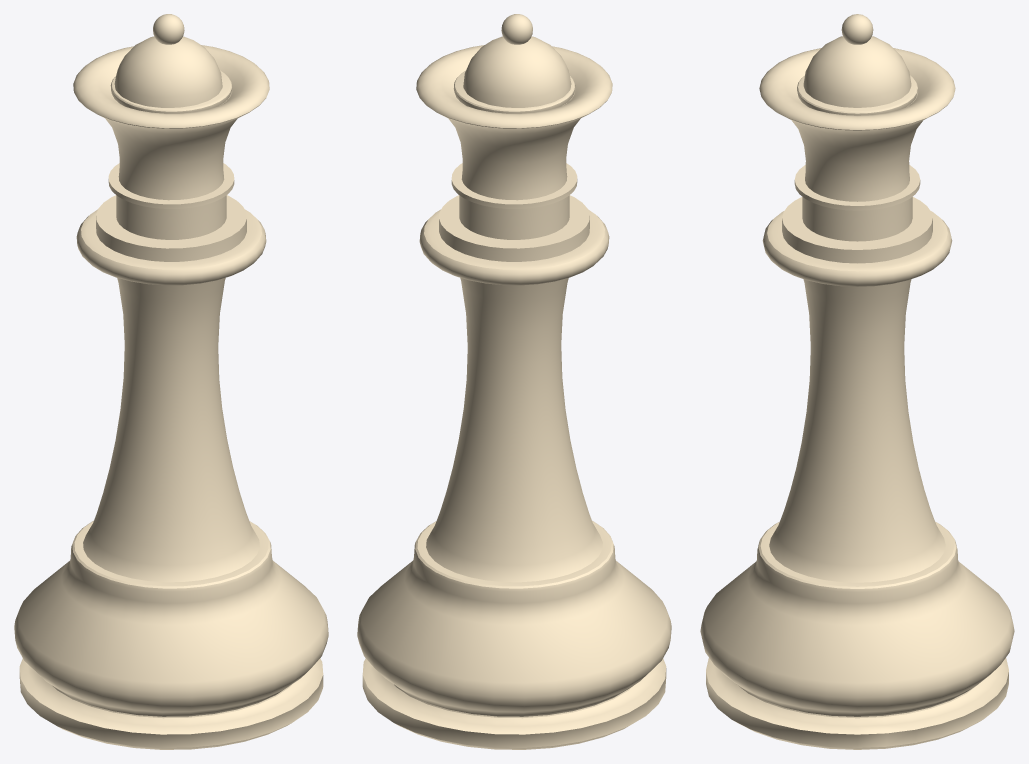
The model's file is Queen.fbx.
3 views of the same model, side by side, from view 1: azimuth 30°, elevation 25°; view 2: azimuth 150°, elevation 25°; view 3: azimuth 270°, elevation 25° (orthographic).
Parts seen in each view (by area): view 1: Queen; view 2: Queen; view 3: Queen.
Boxes of the visible parts, box(x1,y1,x2,y2) form: Queen: box(14, 14, 328, 749); Queen: box(357, 14, 671, 749); Queen: box(700, 14, 1014, 749).
Size of the model in its own units: 62.7 by 149 by 62.7.
